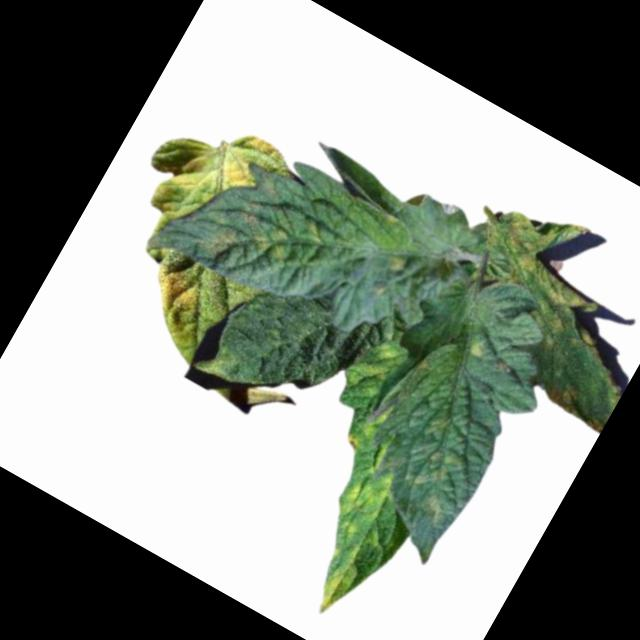Leaf_Mold: (450, 180, 640, 353), (117, 94, 287, 272), (130, 244, 230, 349), (246, 198, 337, 285), (325, 460, 398, 545), (309, 558, 368, 625), (383, 248, 413, 280), (467, 336, 491, 362)
